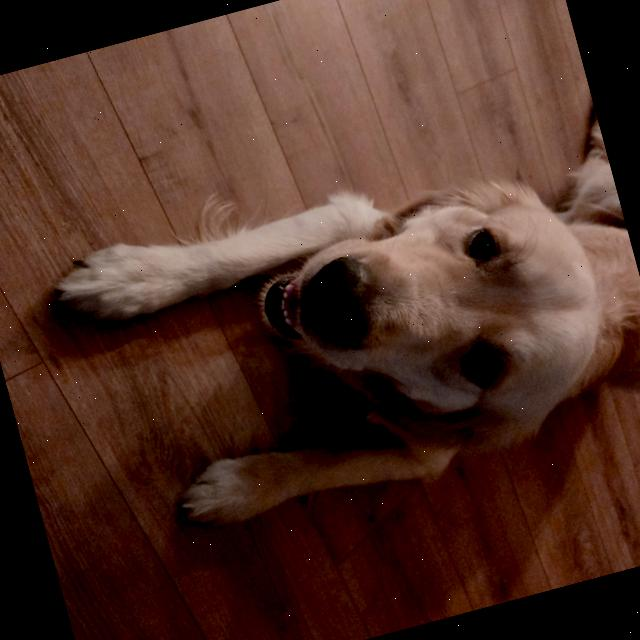golden_retriever_dog: (213, 102, 640, 533)
